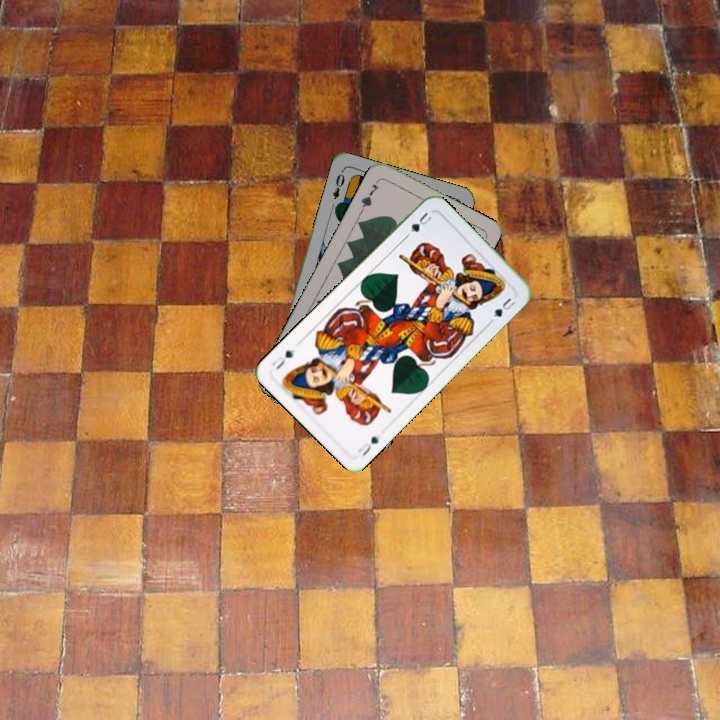EO: (328, 166, 347, 202)
G7: (357, 180, 382, 213)
GU: (402, 208, 434, 240), (354, 432, 382, 459)
